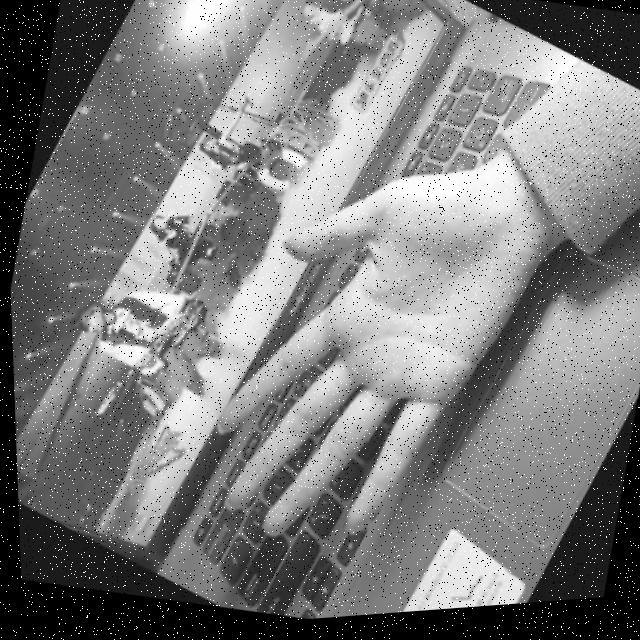hand: (177, 80, 596, 595)
